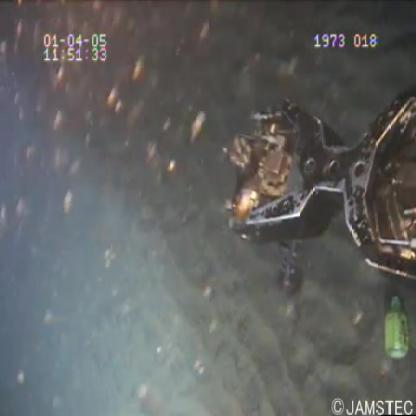Rov: (220, 90, 416, 296)
Rác: (380, 291, 411, 368)
